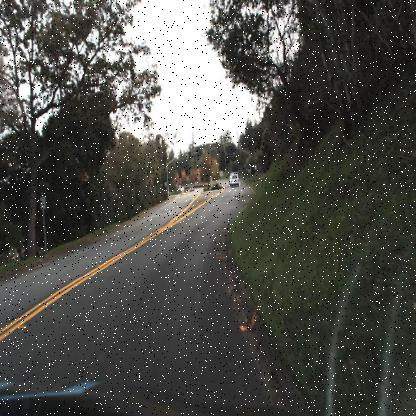car: (224, 169, 240, 188), (187, 182, 196, 195), (187, 183, 195, 195)
